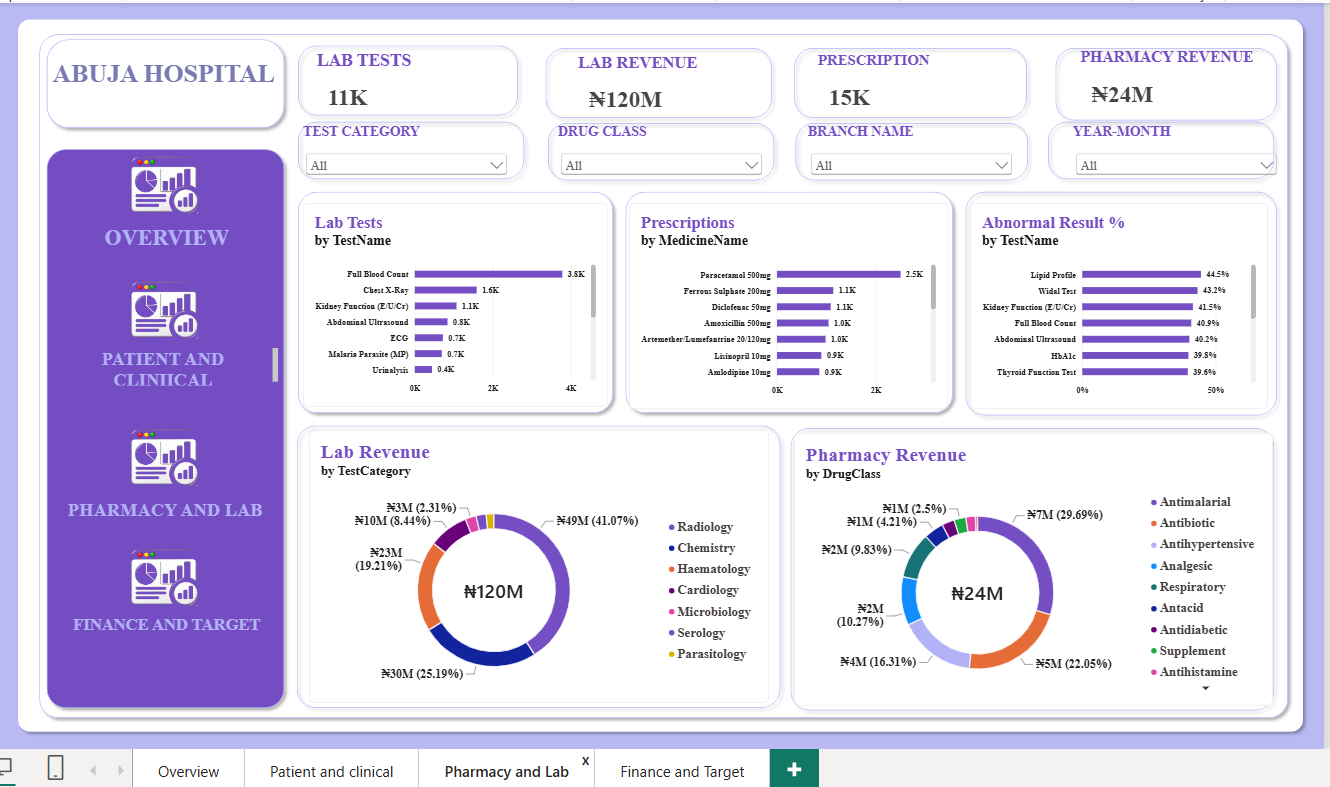

What the dashboard file says about the page in this screenshot:
{"tool":"powerbi","page":{"name":"Pharmacy and Lab","canvas":[1920,1080],"ordinal":2},"visuals":[{"type":"shape","box":[19.9,14.5,1878.4,1049.6],"z":0},{"type":"shape","box":[50.7,36.2,1825.9,1008],"z":1000},{"type":"shape","box":[61.5,202.7,361.9,827],"z":2000},{"type":"image","box":[152,222.6,179.2,83.2],"z":3000},{"type":"textbox","box":[130.3,320.3,228,43.4],"z":4000},{"type":"textbox","box":[81.4,499.5,323.9,54.3],"z":5000},{"type":"image","box":[152,403.6,179.2,83.2],"z":6000},{"type":"textbox","box":[92.3,718.4,300.4,72.4],"z":7000},{"type":"image","box":[152,617.1,179.2,83.2],"z":8000},{"type":"image","box":[152,790.8,179.2,83.2],"z":9000},{"type":"textbox","box":[94.1,886.7,300.4,50.7],"z":10000},{"type":"shape","box":[61.5,43.4,361.9,146.6],"z":11000},{"type":"textbox","box":[74.2,79.6,331.2,79.6],"z":12000},{"type":"shape","box":[423.5,602.6,718.4,427.1],"z":13000},{"type":"shape","box":[1391.6,264.2,468.7,342],"z":14000},{"type":"shape","box":[899.4,264.2,492.2,338.4],"z":15000},{"type":"shape","box":[425.3,264.2,474.1,338.4],"z":16000},{"type":"donutChart","fields":{"Category":["Dim_LabTest.TestCategory"],"Y":["Lab and Pharmacy Dax.Lab Revenue"]},"box":[450.6,618.9,666,394.5],"z":17000},{"type":"clusteredBarChart","fields":{"Category":["Dim_Medicine.MedicineName"],"Y":["Lab and Pharmacy Dax.Prescriptions"]},"box":[913.9,289.5,461.5,298.6],"z":18000},{"type":"clusteredBarChart","fields":{"Category":["Dim_LabTest.TestName"],"Y":["Lab and Pharmacy Dax.Abnormal Result %"]},"box":[1407.9,289.5,430.7,298.6],"z":19000},{"type":"shape","box":[425.3,52.5,336.6,119.4],"z":20000},{"type":"cardVisual","title":"LAB TESTS","fields":{"Data":["Lab and Pharmacy Dax.Lab Tests"]},"box":[461.5,68.8,296.8,92.3],"z":21000},{"type":"shape","box":[783.6,56.1,345.6,119.4],"z":22000},{"type":"shape","box":[1143.7,56.1,354.7,119.4],"z":23000},{"type":"shape","box":[1521.9,56.1,338.4,123.1],"z":24000},{"type":"cardVisual","title":"LAB REVENUE","fields":{"Data":["Lab and Pharmacy Dax.Lab Revenue"]},"box":[839.7,72.4,258.8,92.3],"z":25000},{"type":"cardVisual","title":"PRESCRIPTION","fields":{"Data":["Lab and Pharmacy Dax.Prescriptions"]},"box":[1187.1,70.6,255.2,92.3],"z":26000},{"type":"cardVisual","title":"PHARMACY REVENUE","fields":{"Data":["Lab and Pharmacy Dax.Pharmacy Revenue"]},"box":[1567.2,65.1,251.5,92.3],"z":27000},{"type":"clusteredBarChart","fields":{"Category":["Dim_LabTest.TestName"],"Y":["Lab and Pharmacy Dax.Lab Tests"]},"box":[441.6,289.5,441.6,295],"z":28000},{"type":"shape","box":[1138.3,606.2,718.4,427.1],"z":29000},{"type":"donutChart","fields":{"Category":["Dim_DrugClass.DrugClass"],"Y":["Lab and Pharmacy Dax.Pharmacy Revenue"]},"box":[1152.8,622.5,693.1,394.5],"z":30000},{"type":"shape","box":[425.3,162.9,345.6,101.3],"z":31000},{"type":"shape","box":[787.2,164.7,345.6,101.3],"z":32000},{"type":"shape","box":[1145.5,164.7,354.7,101.3],"z":33000},{"type":"shape","box":[1511.1,162.9,345.6,101.3],"z":34000},{"type":"slicer","title":"BRANCH NAME","fields":{"Values":["Dim_Branch.BranchName"]},"box":[1172.7,175.5,300.4,77.8],"z":37000},{"type":"slicer","title":"DRUG CLASS","fields":{"Values":["Dim_DrugClass.DrugClass"]},"box":[810.7,175.5,300.4,77.8],"z":37500},{"type":"slicer","title":"TEST CATEGORY","fields":{"Values":["Dim_LabTest.TestCategory"]},"box":[441.6,175.5,300.4,77.8],"z":38000},{"type":"slicer","title":"YEAR-MONTH","fields":{"Values":["Dim_Date.Year-Month"]},"box":[1556.3,175.5,300.4,77.8],"z":38001}]}

Visuals, with their boxes on the page's 1920x1080 design canvas (x1, y1, x2, y2). These are canvas units, not pixel positions in the 1330x787 screenshot, which may show the page scaled, cropped or inside an application window:
shape: <region>20, 14, 1898, 1064</region>
shape: <region>51, 36, 1877, 1044</region>
shape: <region>62, 203, 423, 1030</region>
image: <region>152, 223, 331, 306</region>
textbox: <region>130, 320, 358, 364</region>
textbox: <region>81, 500, 405, 554</region>
image: <region>152, 404, 331, 487</region>
textbox: <region>92, 718, 393, 791</region>
image: <region>152, 617, 331, 700</region>
image: <region>152, 791, 331, 874</region>
textbox: <region>94, 887, 394, 937</region>
shape: <region>62, 43, 423, 190</region>
textbox: <region>74, 80, 405, 159</region>
shape: <region>424, 603, 1142, 1030</region>
shape: <region>1392, 264, 1860, 606</region>
shape: <region>899, 264, 1392, 603</region>
shape: <region>425, 264, 899, 603</region>
donutChart - Dim_LabTest.TestCategory x Lab and Pharmacy Dax.Lab Revenue: <region>451, 619, 1117, 1013</region>
clusteredBarChart - Dim_Medicine.MedicineName x Lab and Pharmacy Dax.Prescriptions: <region>914, 290, 1375, 588</region>
clusteredBarChart - Dim_LabTest.TestName x Lab and Pharmacy Dax.Abnormal Result %: <region>1408, 290, 1839, 588</region>
shape: <region>425, 52, 762, 172</region>
"LAB TESTS" cardVisual: <region>462, 69, 758, 161</region>
shape: <region>784, 56, 1129, 176</region>
shape: <region>1144, 56, 1498, 176</region>
shape: <region>1522, 56, 1860, 179</region>
"LAB REVENUE" cardVisual: <region>840, 72, 1098, 165</region>
"PRESCRIPTION" cardVisual: <region>1187, 71, 1442, 163</region>
"PHARMACY REVENUE" cardVisual: <region>1567, 65, 1819, 157</region>
clusteredBarChart - Dim_LabTest.TestName x Lab and Pharmacy Dax.Lab Tests: <region>442, 290, 883, 584</region>
shape: <region>1138, 606, 1857, 1033</region>
donutChart - Dim_DrugClass.DrugClass x Lab and Pharmacy Dax.Pharmacy Revenue: <region>1153, 622, 1846, 1017</region>
shape: <region>425, 163, 771, 264</region>
shape: <region>787, 165, 1133, 266</region>
shape: <region>1146, 165, 1500, 266</region>
shape: <region>1511, 163, 1857, 264</region>
"BRANCH NAME" slicer: <region>1173, 176, 1473, 253</region>
"DRUG CLASS" slicer: <region>811, 176, 1111, 253</region>
"TEST CATEGORY" slicer: <region>442, 176, 742, 253</region>
"YEAR-MONTH" slicer: <region>1556, 176, 1857, 253</region>
